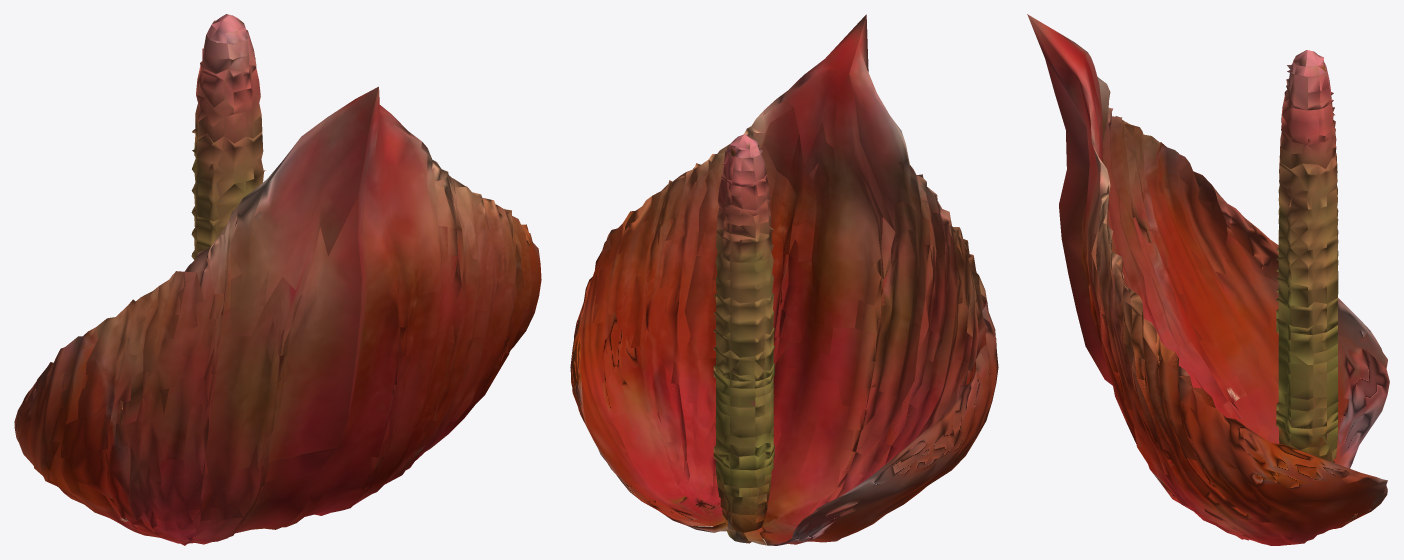
3 renders of one model, left to right at view 1: azimuth 30°, elevation 25°; view 2: azimuth 150°, elevation 25°; view 3: azimuth 270°, elevation 25°, orthographic. The views are drawn at different scales.
Visible parts, largest first — view 1: 119dbbc5; view 2: 119dbbc5; view 3: 119dbbc5.
Boxes of the visible parts, x1,y1,x2,y2 form: 119dbbc5: (14,14,541,545); 119dbbc5: (570,14,998,545); 119dbbc5: (1027,14,1389,545).
Size of the model in its own units: 0.134 by 0.1389 by 0.0914.
2 materials, 2 textured.
